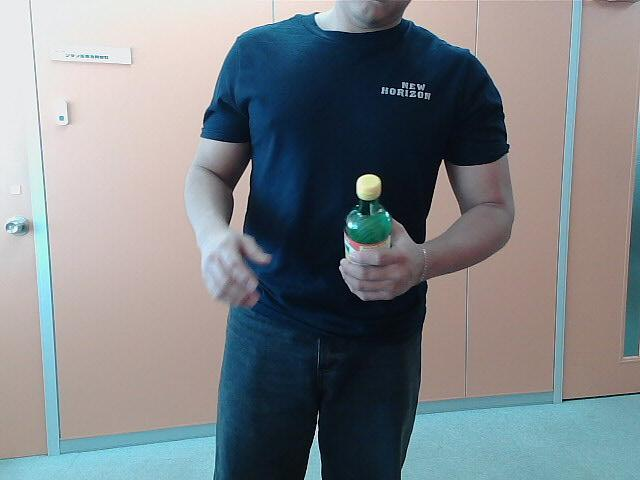Lemon_sapporo: (344, 168, 395, 296)
